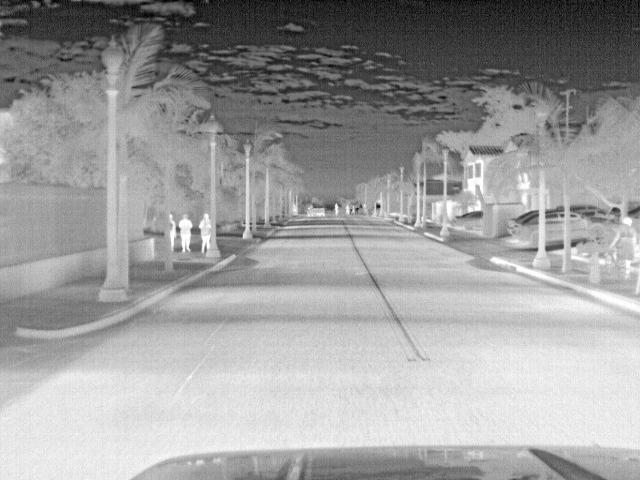car: (574, 206, 604, 247), (512, 210, 540, 250), (449, 209, 482, 237), (546, 208, 566, 250), (310, 202, 328, 218)
person: (607, 215, 639, 280), (177, 211, 195, 254), (197, 209, 212, 254)
